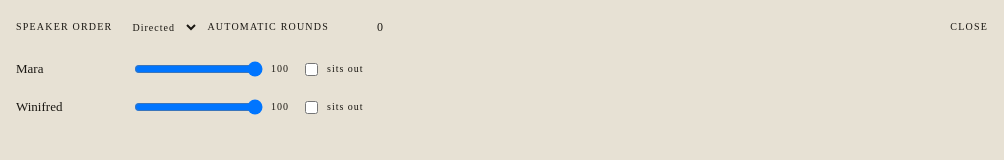
Test: a rejected save shows an alert and leaves the controls on the prior value
Select "List" in the dropdown labelled "Speaker order" at (160, 27), box [120, 10, 200, 44]
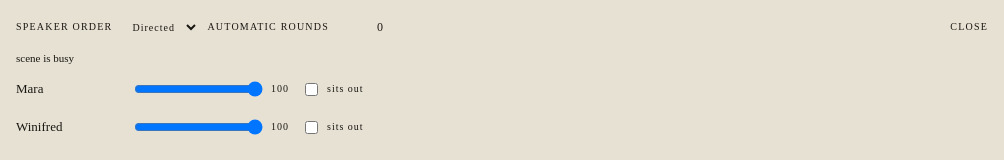
Result: the message reads "scene is busy" at [16, 52, 74, 64]
